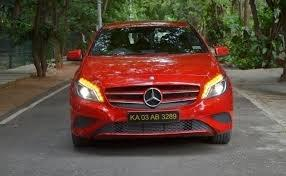Liscence Plate: (128, 112, 181, 121)
